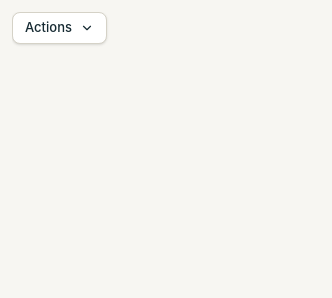
Test: appointment status transitions › hides transition controls from a read-only receptionist view of clinical completion
Step 1. Click the button with aria-label "Appointment actions" → (60, 28), box x1=12 y1=12 x2=107 y2=44
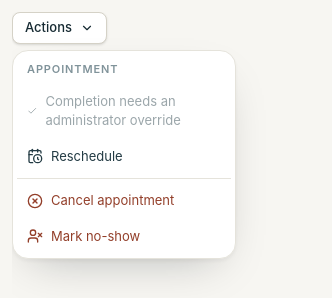
Check: the menu item "Cancel appointment" is shown, box x1=27 y1=192 x2=174 y2=209
